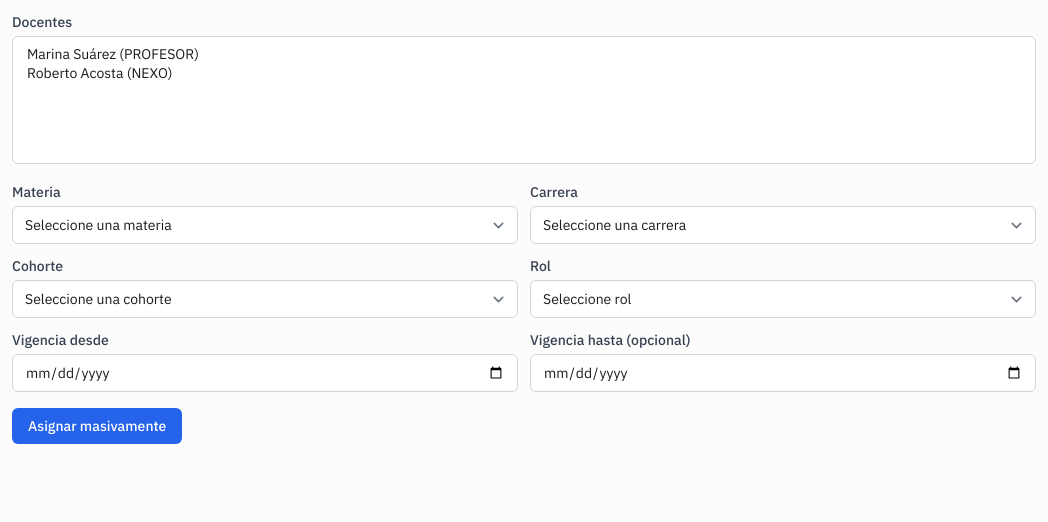
AsignacionMasiva — error 422 › muestra el detalle del error 422 sin perder el formulario
The width and height of the screenshot is (1048, 522).
expect the option "Marina Suárez" is shown: met, box [25,45,1023,64]
Select "Marina Suárez (PROFESOR)" in the dropdown labelled "Docentes" at (524,100), box [12,36,1036,164]
Select "Programación I" in the dropdown labelled "Materia" at (265,225), box [12,206,518,244]
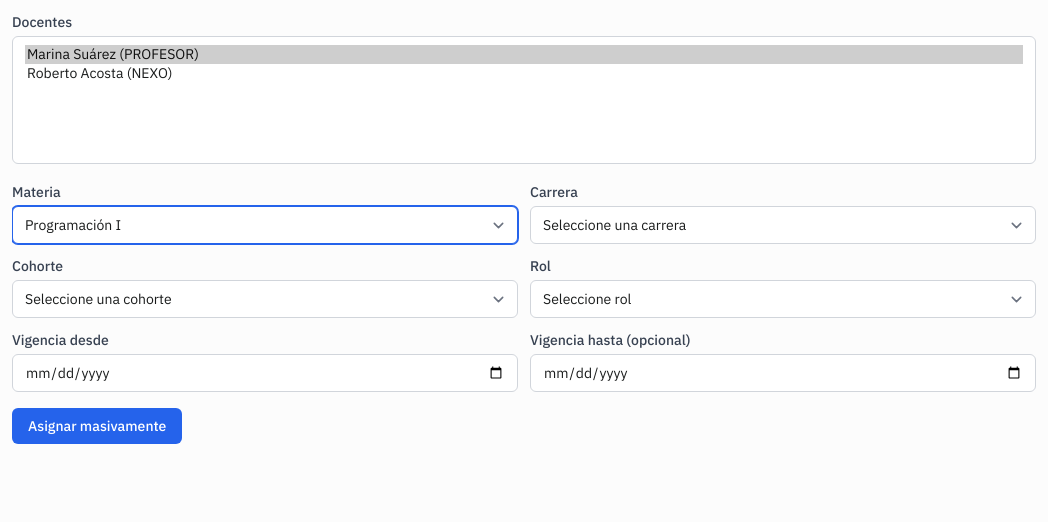
Select "Ingeniería en Sistemas" in the dropdown labelled "Carrera" at (783,225), box [530,206,1036,244]
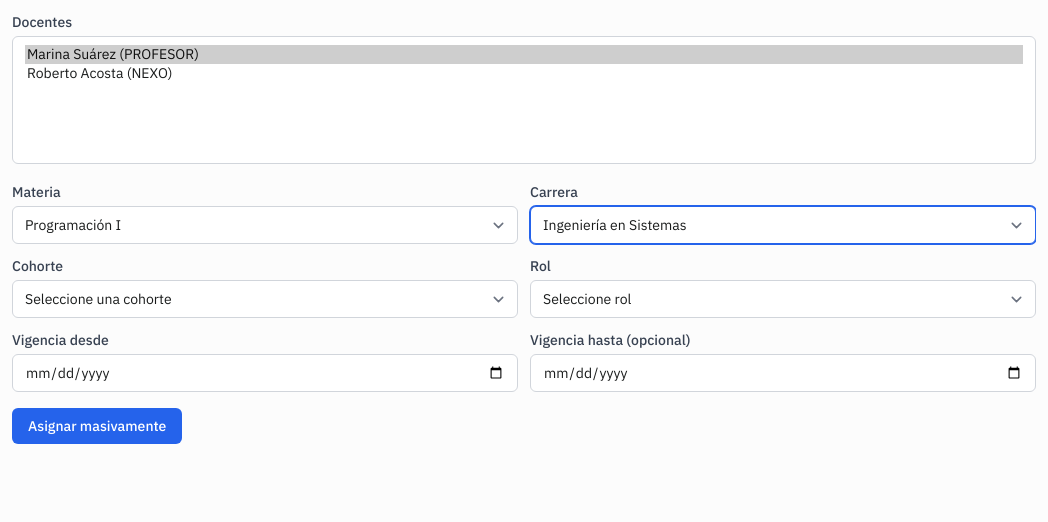
Select "2026" in the dropdown labelled "Cohorte" at (265,299), box [12,280,518,318]
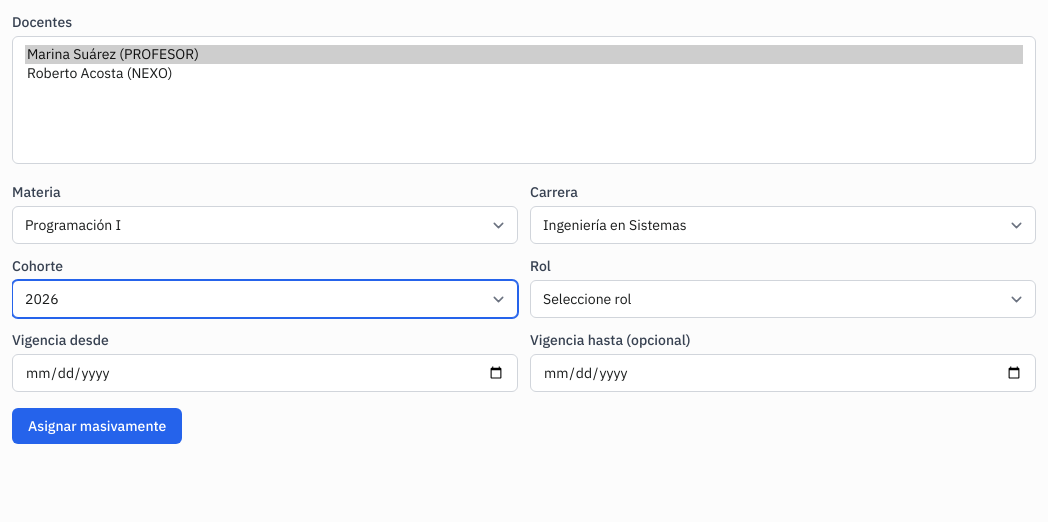
Select "PROFESOR" in the dropdown labelled "Rol" at (783,299), box [530,280,1036,318]
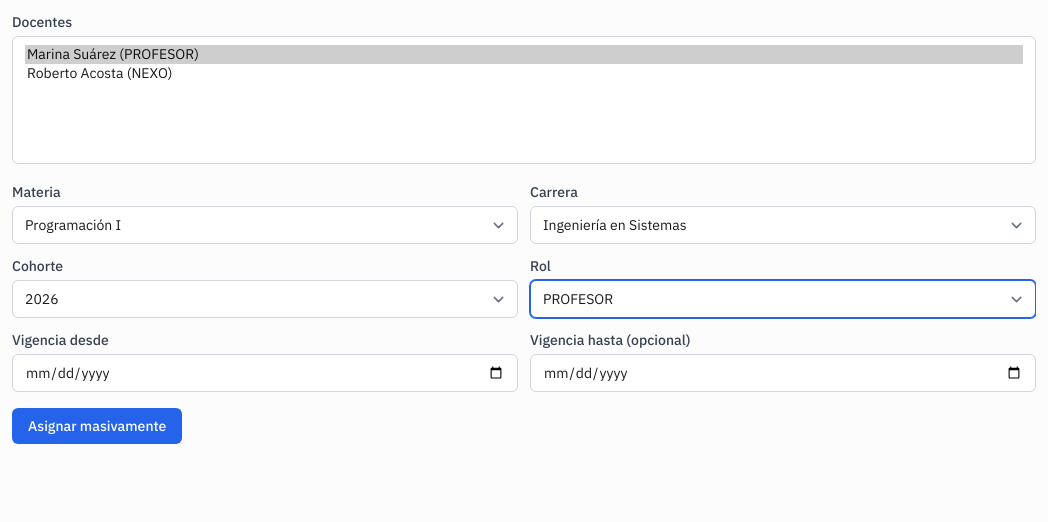
Type "2026-03-01" into the date field labelled "Vigencia desde" at (265,373), box [12,354,518,392]
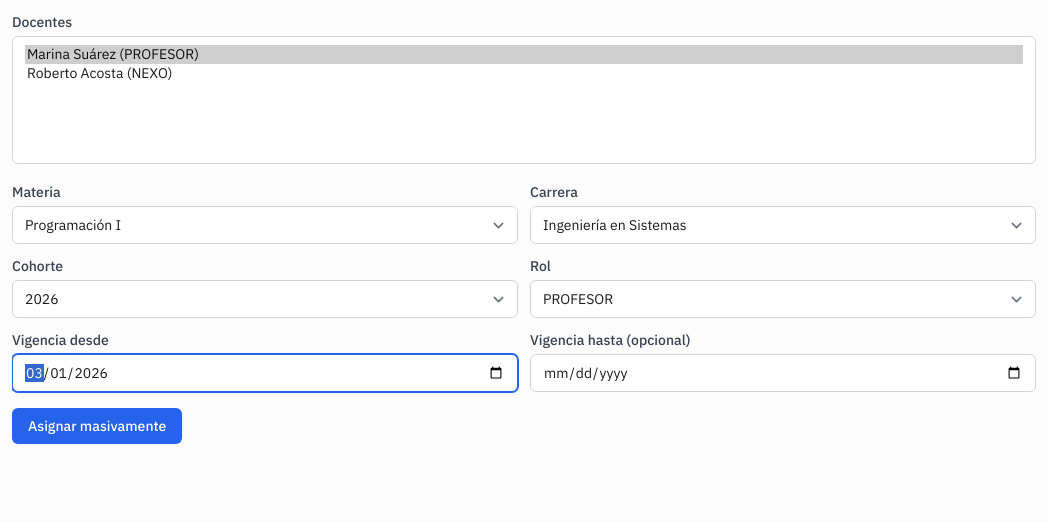
Click the button "Asignar masivamente" at (97,426), box [12,408,182,444]
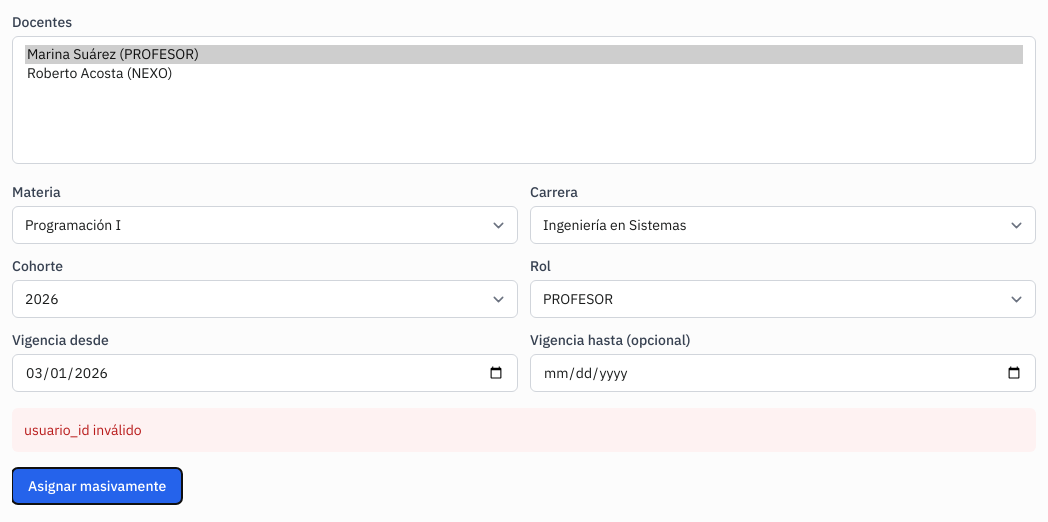
expect the button "Asignar masivamente" is shown: met, box [12,468,182,504]
expect the text "usuario_id inválido" is shown: met, box [12,408,1036,452]
